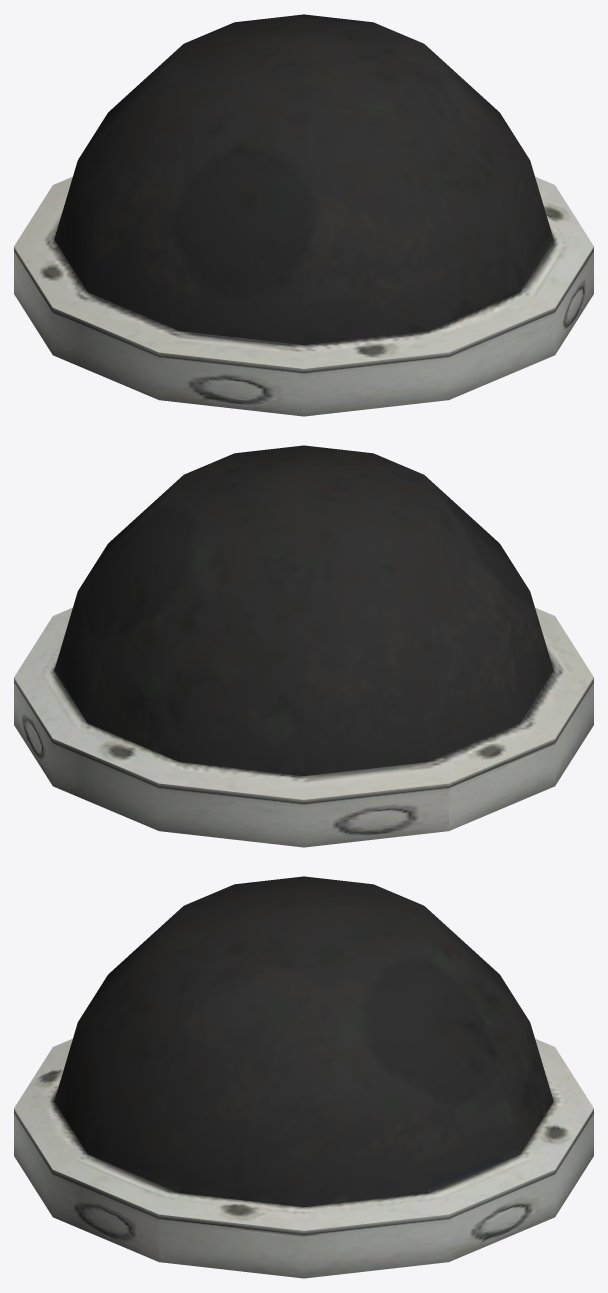
The model's file is p6_security_camera_dome_lod0.glb.
3 renders of one model, top to bottom at view 1: azimuth 30°, elevation 25°; view 2: azimuth 150°, elevation 25°; view 3: azimuth 270°, elevation 25°, orthographic.
Visible parts, largest first — view 1: surf0; view 2: surf0; view 3: surf0.
Part boxes in pixels (x1,y1,x2,y2): surf0: (14, 14, 593, 416); surf0: (14, 445, 593, 847); surf0: (14, 876, 593, 1278).
Bounding box in the file's own units: 10.71 × 5.04 × 10.71.
